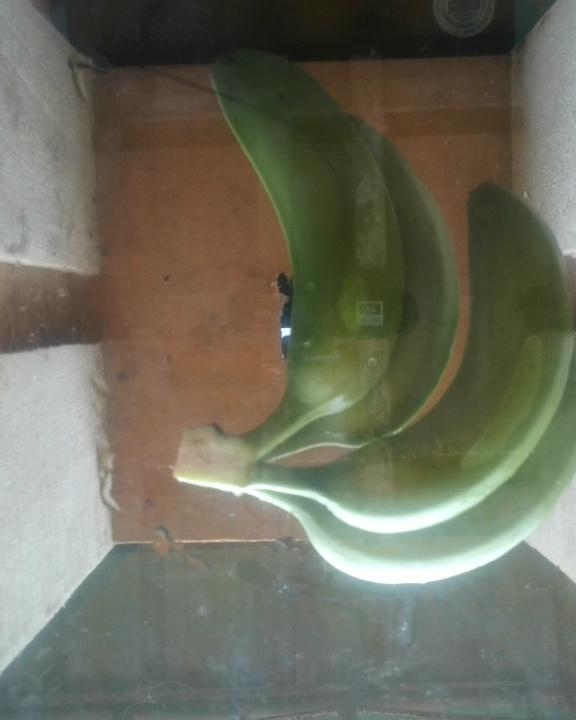SPOT: (166, 42, 576, 592)
